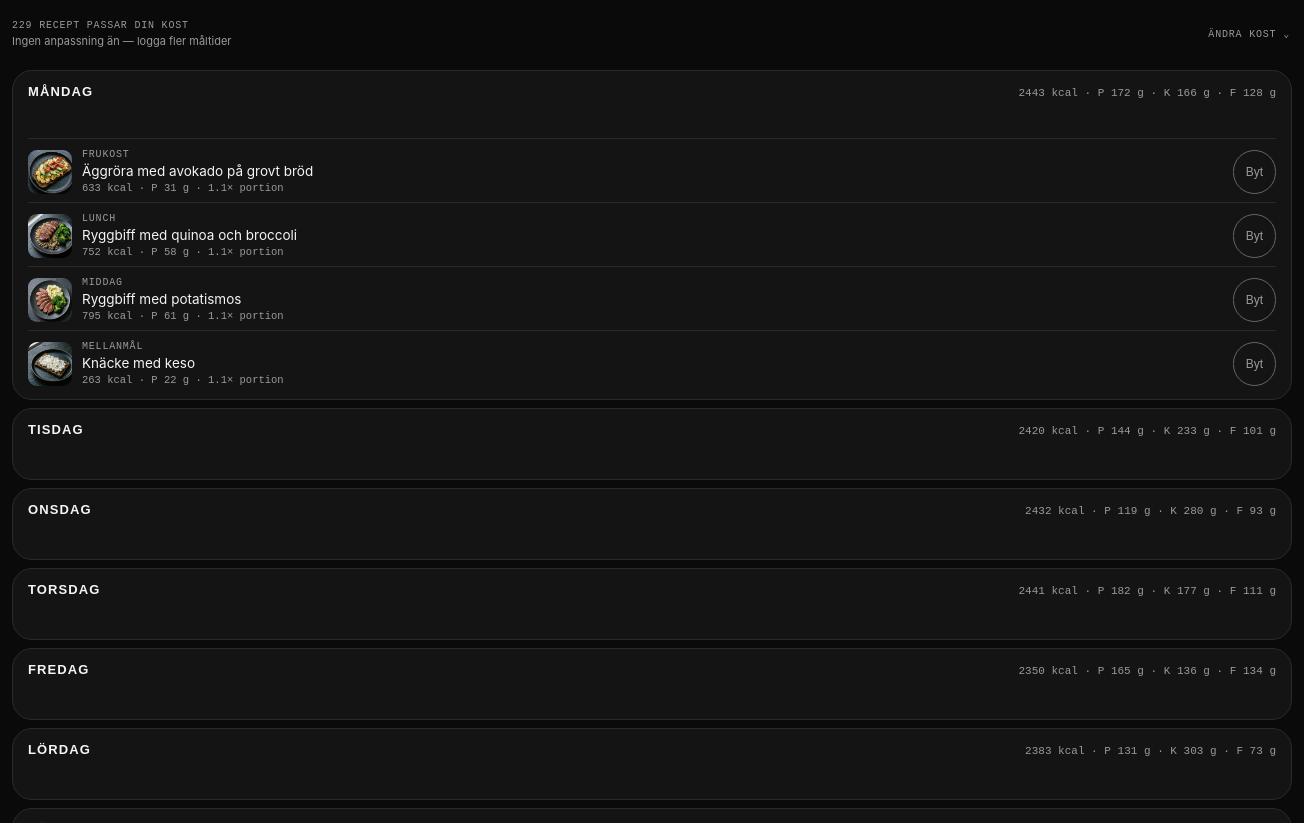
Test: meal prep i gränssnittet › varnar ärligt när en allergi krymper utbudet
This screenshot has width=1304, height=823.
Click the button "Ändra kost ⌄" at point(1249, 34), box x1=1206 y1=12 x2=1292 y2=56
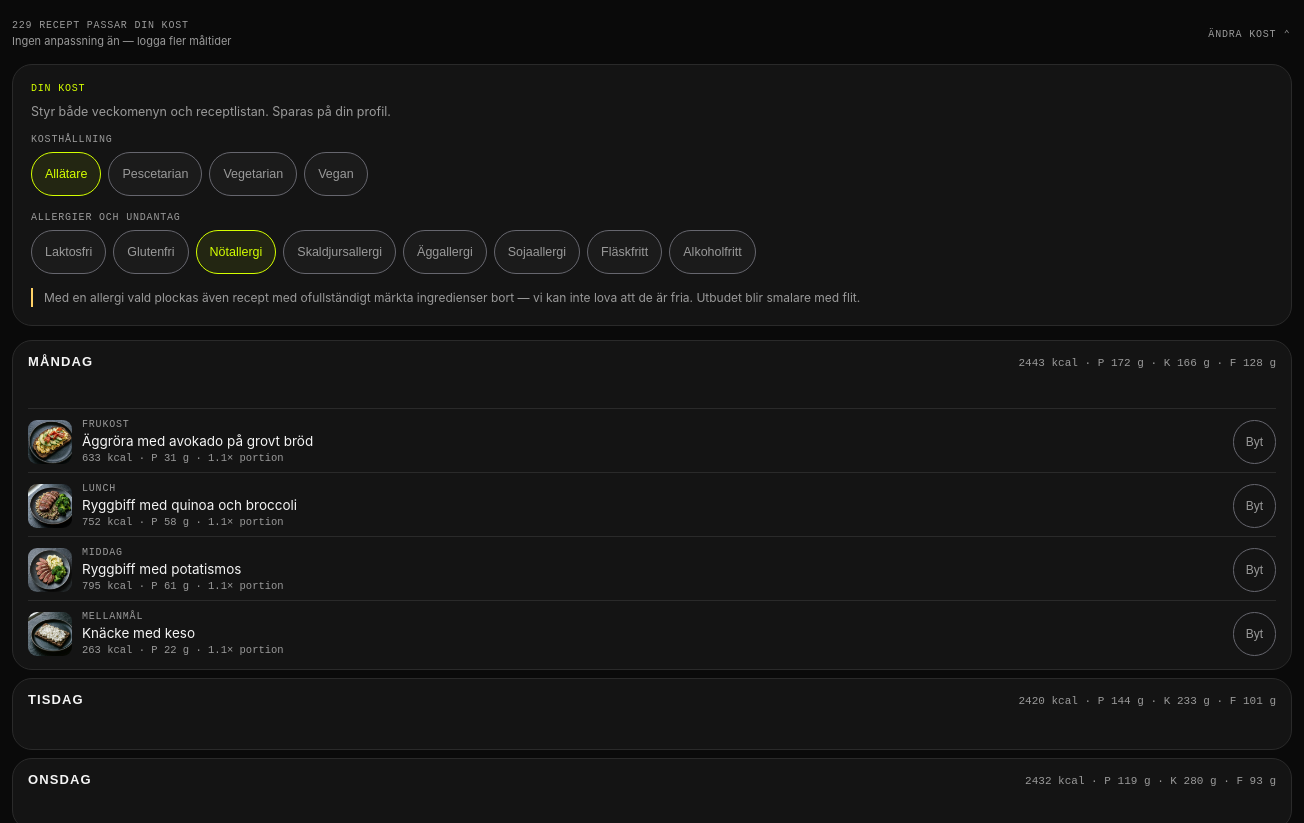
Result: the text "kan inte lova att de är fria" is shown at x1=44 y1=290 x2=860 y2=305
